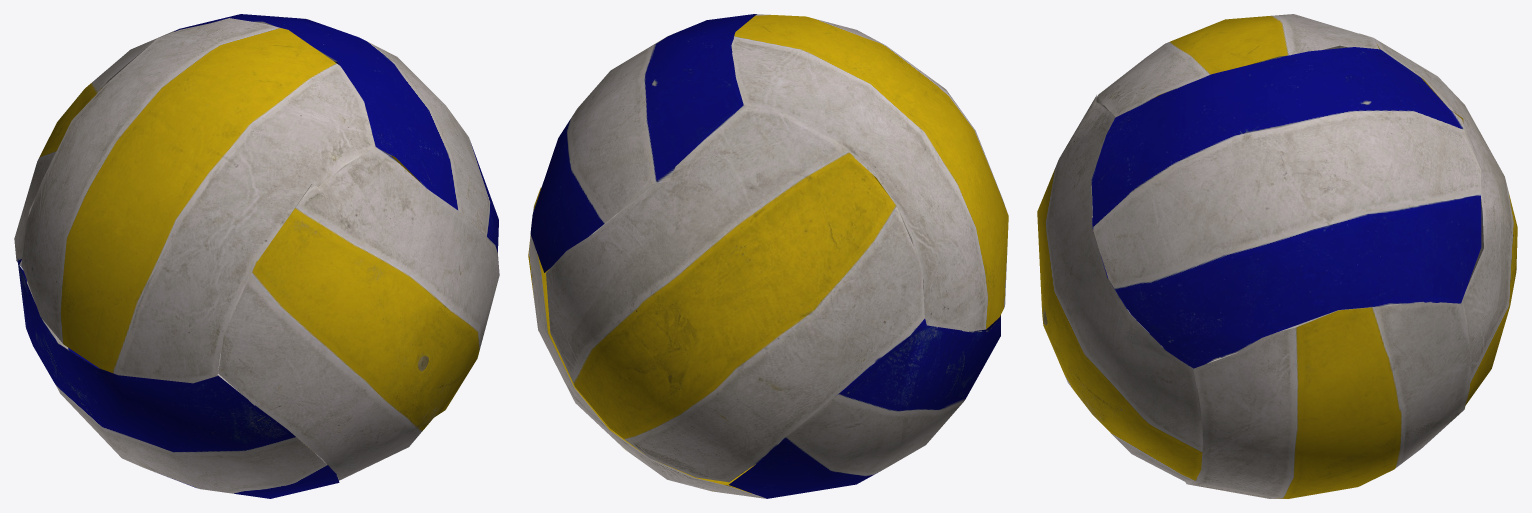
File: ball.glb
3 views of the same model, side by side, from view 1: azimuth 30°, elevation 25°; view 2: azimuth 150°, elevation 25°; view 3: azimuth 270°, elevation 25° (orthographic).
Visible parts, largest first — view 1: Volleyball; view 2: Volleyball; view 3: Volleyball.
Part boxes in pixels (x1,y1,x2,y2): Volleyball: (14, 14, 499, 498); Volleyball: (528, 14, 1008, 498); Volleyball: (1037, 14, 1517, 498).
Size of the model in its own units: 0.7048 by 0.7044 by 0.703.
Materials: 1 (1 with a texture image).
